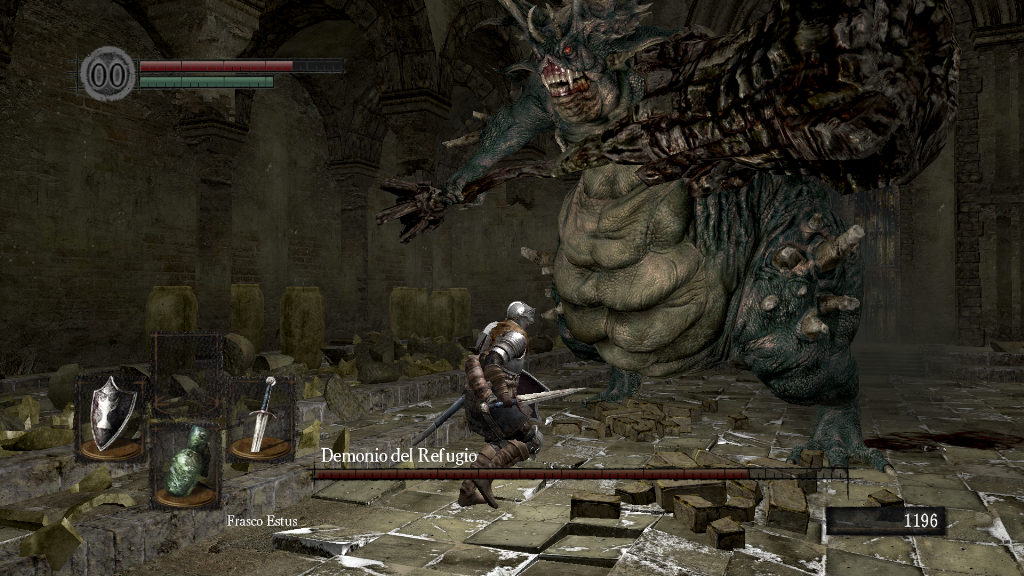asylumDemon: (377, 1, 963, 474)
bossHP: (314, 469, 847, 479)
health: (138, 58, 343, 71)
humanity: (80, 45, 136, 102)
player: (460, 300, 586, 505)
souls: (825, 506, 945, 536)
stamina: (138, 74, 274, 88)
